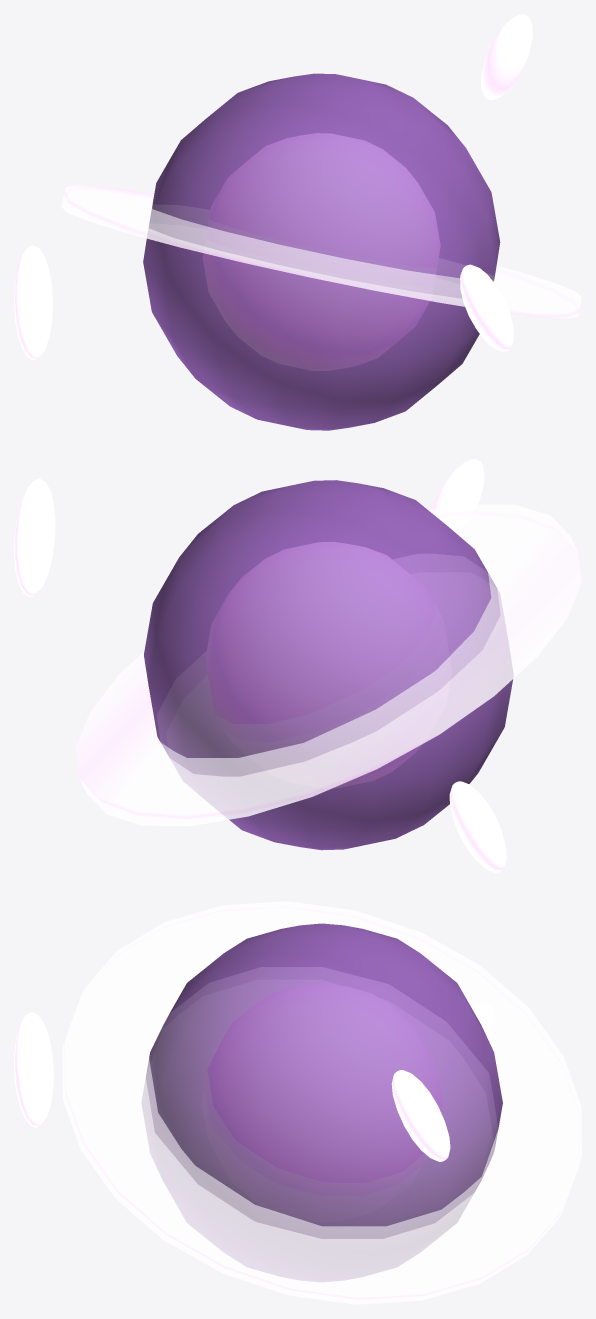
Rendered from WarpPearl.fbx.
3 views of the same model, one above another, from view 1: azimuth 30°, elevation 25°; view 2: azimuth 150°, elevation 25°; view 3: azimuth 270°, elevation 25° (orthographic). The views are drawn at different scales.
Visible parts, largest first — view 1: WarpPearl.Shell, WarpPearl.Core, WarpPearl.Halo, WarpPearl.Shard2, WarpPearl.Shard3, WarpPearl.Shard1; view 2: WarpPearl.Shell, WarpPearl.Halo, WarpPearl.Core, WarpPearl.Shard1, WarpPearl.Shard2, WarpPearl.Shard3; view 3: WarpPearl.Halo, WarpPearl.Shell, WarpPearl.Core, WarpPearl.Shard3, WarpPearl.Shard1.
Boxes of the visible parts, x1,y1,x2,y2 form: WarpPearl.Shell: (143, 73, 500, 430); WarpPearl.Core: (203, 133, 440, 370); WarpPearl.Halo: (61, 185, 581, 318); WarpPearl.Shard2: (14, 245, 52, 360); WarpPearl.Shard3: (460, 264, 513, 351); WarpPearl.Shard1: (481, 14, 532, 100); WarpPearl.Shell: (144, 480, 512, 850); WarpPearl.Halo: (75, 504, 581, 826); WarpPearl.Core: (206, 542, 435, 787); WarpPearl.Shard1: (14, 478, 55, 597); WarpPearl.Shard2: (449, 781, 506, 872); WarpPearl.Shard3: (430, 459, 484, 534); WarpPearl.Halo: (62, 901, 581, 1304); WarpPearl.Shell: (142, 923, 502, 1281); WarpPearl.Core: (207, 983, 442, 1182); WarpPearl.Shard3: (14, 1012, 53, 1127); WarpPearl.Shard1: (391, 1070, 450, 1161).
Size of the model in its own units: 1.41 by 0.9 by 1.41.
